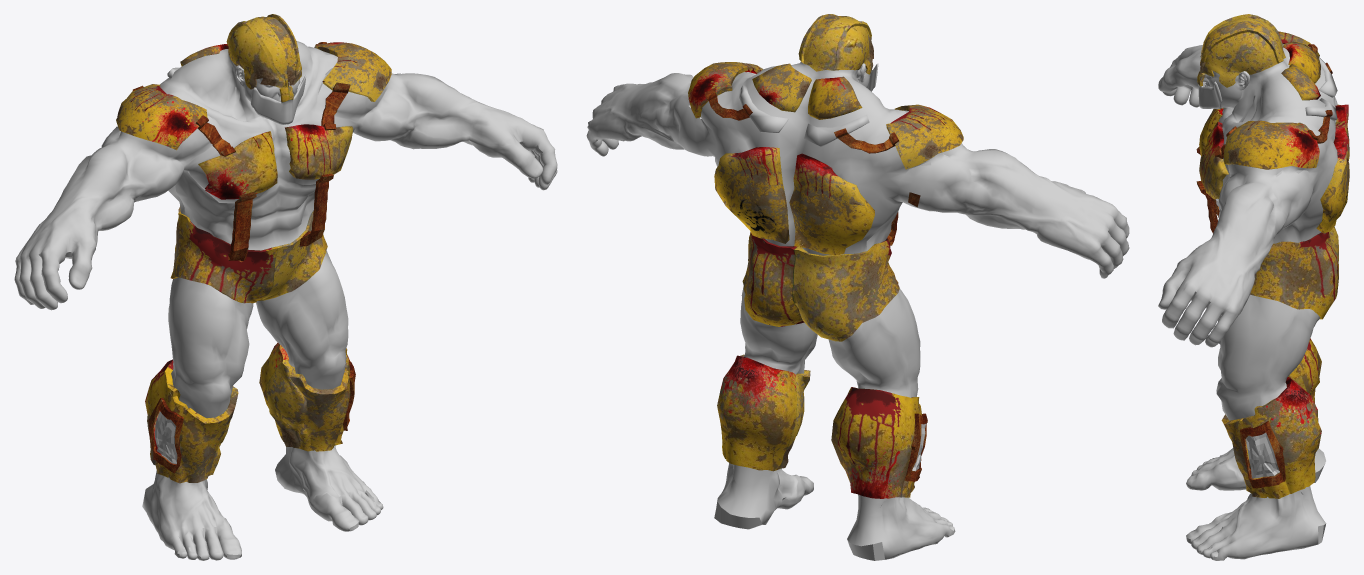
The model's file is Tank Fully Textured.fbx.
3 renders of one model, left to right at view 1: azimuth 30°, elevation 25°; view 2: azimuth 150°, elevation 25°; view 3: azimuth 270°, elevation 25°, orthographic. The views are drawn at different scales.
Parts seen in each view (by area): view 1: Object023, Object004, Object015, Object003, Object012, Object021, Object008, Object006, Object005, Object011, Object013, Object025 (+4 smaller); view 2: Object023, Object015, Object018, Object008, Object011, Object004, Object006, Object021, Object005, Object019, Object013, Object003 (+3 smaller); view 3: Object023, Object003, Object005, Object008, Object015, Object013, Object021, Object018, Object006, Object012, Object019, Object010 (+6 smaller).
Boxes of the visible parts, <box> form: Object023: <box>14,41,557,310</box>; Object004: <box>168,277,253,417</box>; Object015: <box>170,206,327,303</box>; Object003: <box>256,250,348,389</box>; Object012: <box>198,124,353,199</box>; Object021: <box>116,42,391,150</box>; Object008: <box>259,342,350,451</box>; Object006: <box>142,454,241,560</box>; Object005: <box>275,445,383,531</box>; Object011: <box>145,359,238,483</box>; Object013: <box>226,14,301,102</box>; Object025: <box>228,173,333,262</box>; Object023: <box>586,62,1129,278</box>; Object015: <box>742,232,899,341</box>; Object018: <box>714,147,874,255</box>; Object008: <box>717,354,810,471</box>; Object011: <box>831,387,921,498</box>; Object004: <box>828,288,920,397</box>; Object006: <box>847,494,955,560</box>; Object021: <box>688,62,963,169</box>; Object005: <box>714,463,813,529</box>; Object019: <box>752,63,862,119</box>; Object013: <box>798,14,873,74</box>; Object003: <box>740,287,817,374</box>; Object023: <box>1158,44,1337,347</box>; Object003: <box>1216,294,1320,420</box>; Object005: <box>1186,486,1326,560</box>; Object008: <box>1221,377,1321,498</box>; Object015: <box>1250,226,1338,319</box>; Object013: <box>1197,14,1285,87</box>; Object021: <box>1224,31,1319,169</box>; Object018: <box>1316,104,1349,233</box>; Object006: <box>1186,448,1325,490</box>; Object012: <box>1199,108,1228,199</box>; Object019: <box>1281,41,1320,100</box>; Object010: <box>1240,421,1285,488</box>.
Bounding box in the file's own units: 2088 × 1917 × 672.
